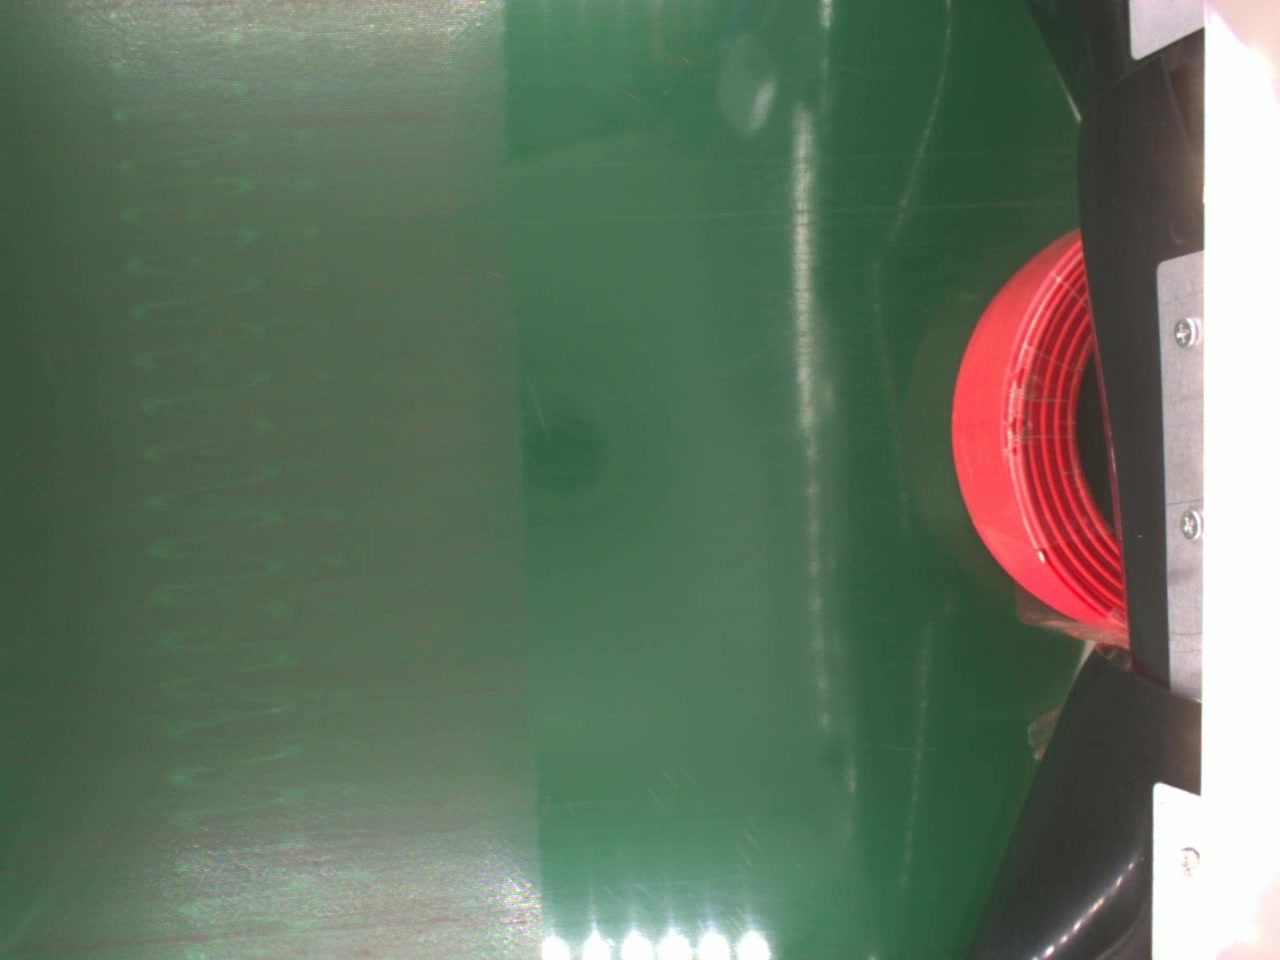red: (946, 219, 1125, 643)
